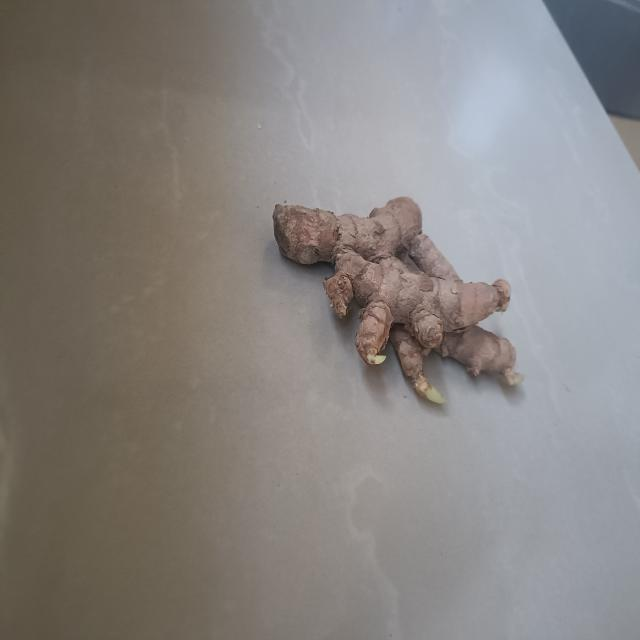ginger: (269, 179, 532, 413)
